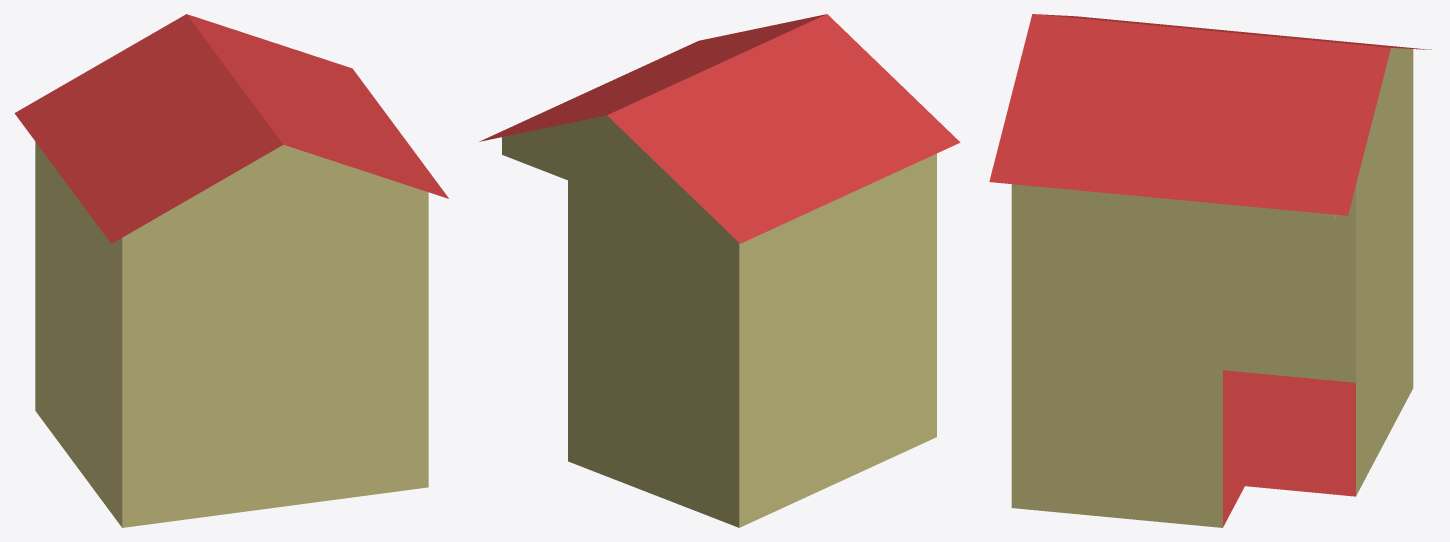
3 views of the same model, side by side, from view 1: azimuth 30°, elevation 25°; view 2: azimuth 150°, elevation 25°; view 3: azimuth 270°, elevation 25° (orthographic). The views are drawn at different scales.
Bounding box in the file's own units: 12.56 × 11.88 × 12.29.
